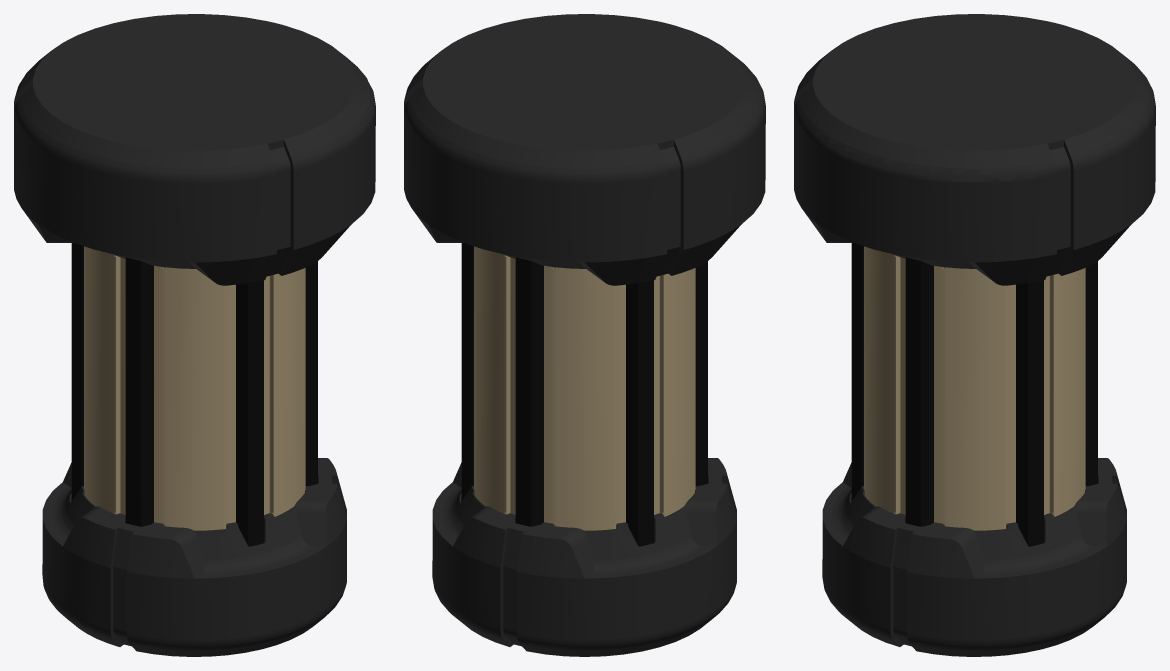
Rendered from energy_unit.dae.
The picture shows the model from 3 angles, left to right: view 1: azimuth 30°, elevation 25°; view 2: azimuth 150°, elevation 25°; view 3: azimuth 270°, elevation 25°; orthographic projection.
Visible parts, largest first — view 1: node; view 2: node; view 3: node.
Part boxes in pixels (<box>): node: <box>14,14,375,656</box>; node: <box>404,14,765,656</box>; node: <box>794,14,1155,656</box>.
Size of the model in its own units: 0.095 by 0.0949 by 0.15.
